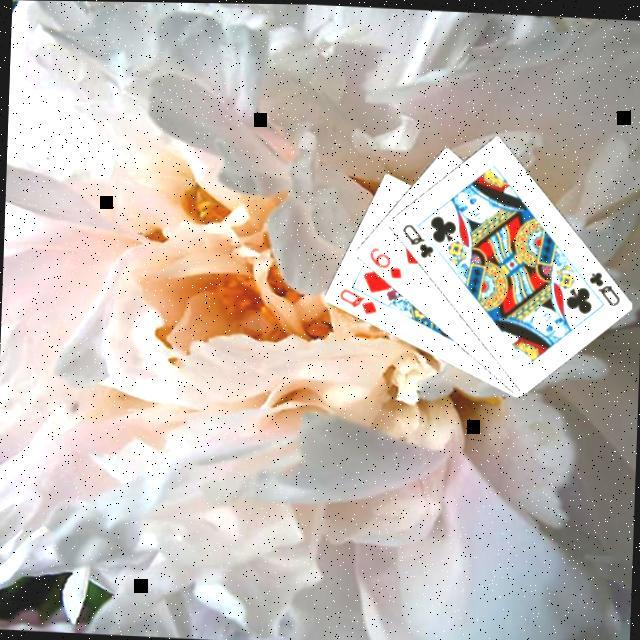6D: (362, 244, 403, 281)
QC: (396, 221, 435, 262), (582, 267, 621, 308)
QD: (334, 285, 379, 319)
